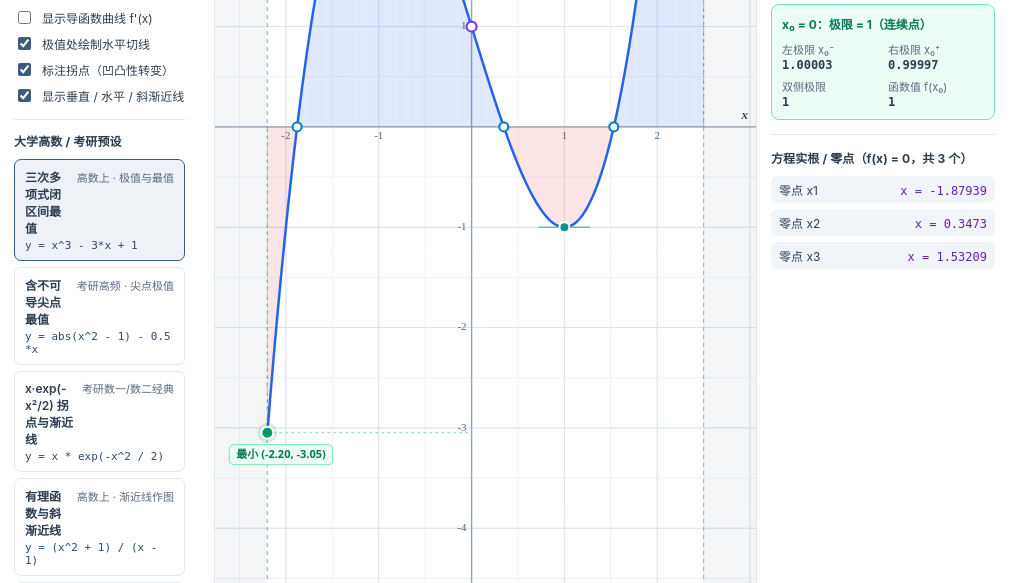
Scenario: CalculusWorkbench › renders 1D extrema global max/min and switches university presets cleanly
The width and height of the screenshot is (1024, 583).
(page scrolled)
Note: Switch to rational function preset with vertical + oblique asymptotes
Click the button "有理函数与斜渐近线 高数上 · 渐近线作图 y = (x^2 + 1) / (x - 1)".
click(100, 527)  # box [14, 478, 185, 576]
(page scrolled)
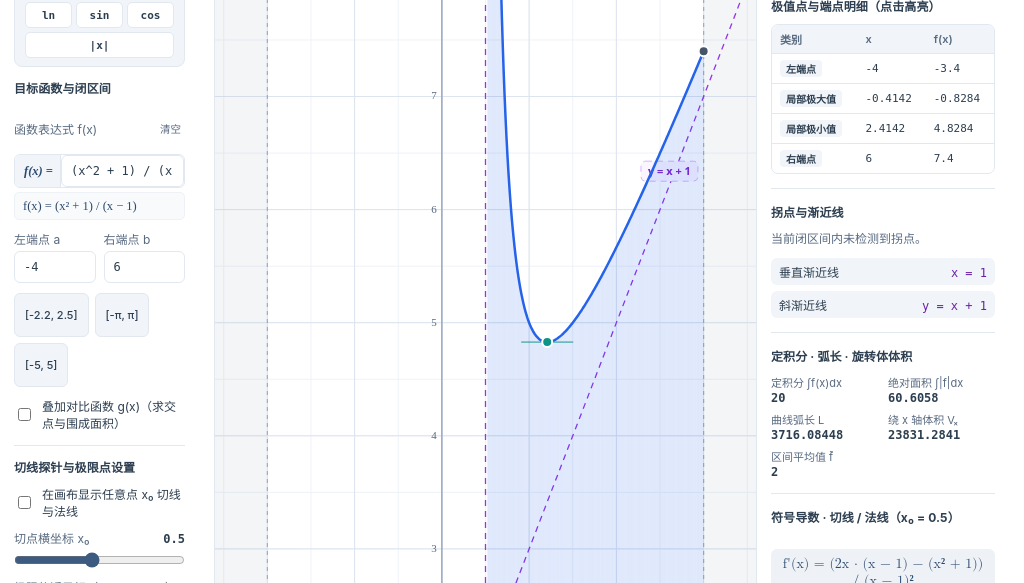
Expected: the text "x = 1" is shown, [951, 266, 987, 280]
Expected: the text "y = x + 1" is shown, [922, 299, 987, 313]
